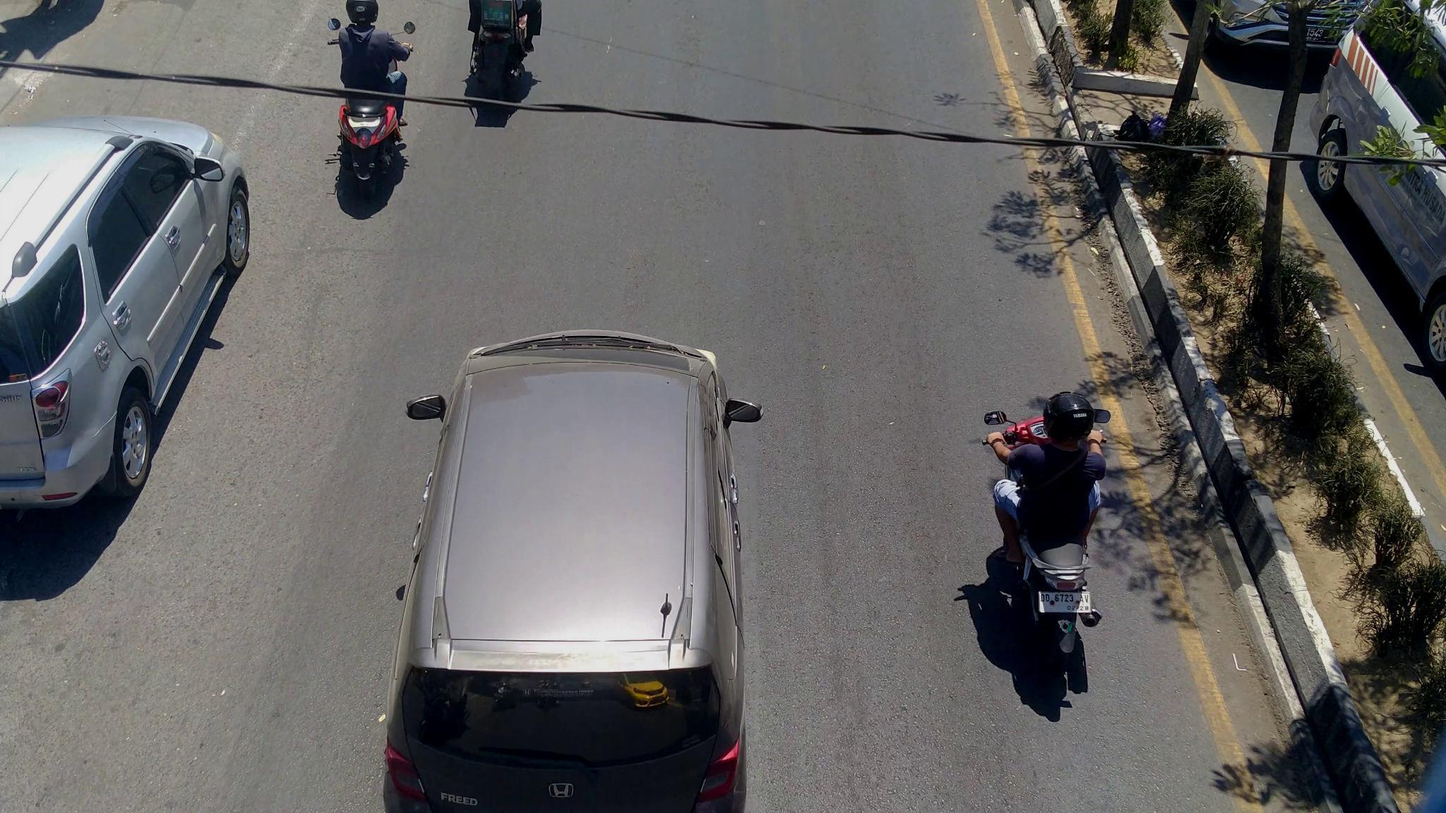Helmet: (1040, 384, 1103, 449), (339, 0, 383, 26)
bike: (985, 406, 1112, 682), (327, 14, 414, 186), (466, 1, 536, 126)
number-plate: (1036, 587, 1094, 616)
rider: (988, 386, 1106, 570), (337, 0, 409, 125)
